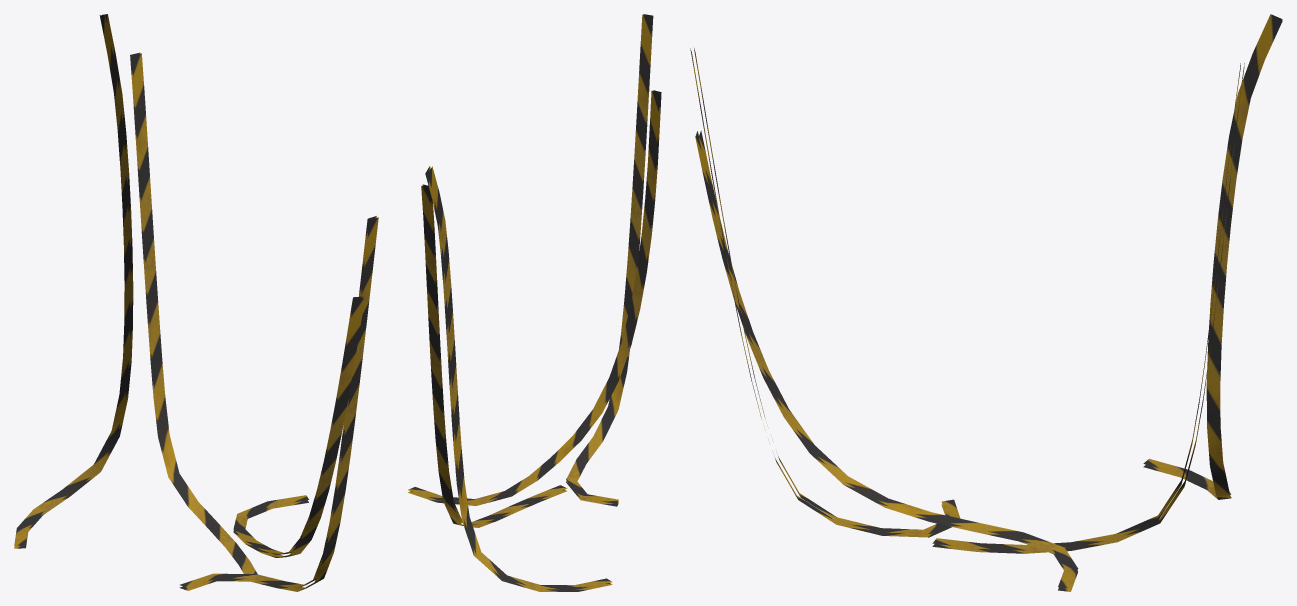
The model's file is Tape1.fbx.
3 views of the same model, side by side, from view 1: azimuth 30°, elevation 25°; view 2: azimuth 150°, elevation 25°; view 3: azimuth 270°, elevation 25° (orthographic). The views are drawn at different scales.
Visible parts, largest first — view 1: Tape1; view 2: Tape1; view 3: Tape1.
Part boxes in pixels (x1=…): Tape1: x1=14, y1=14, x2=378, y2=591; Tape1: x1=408, y1=14, x2=661, y2=591; Tape1: x1=690, y1=14, x2=1282, y2=591.
Bounding box in the file's own units: 0.9213 × 1.57 × 1.59.
